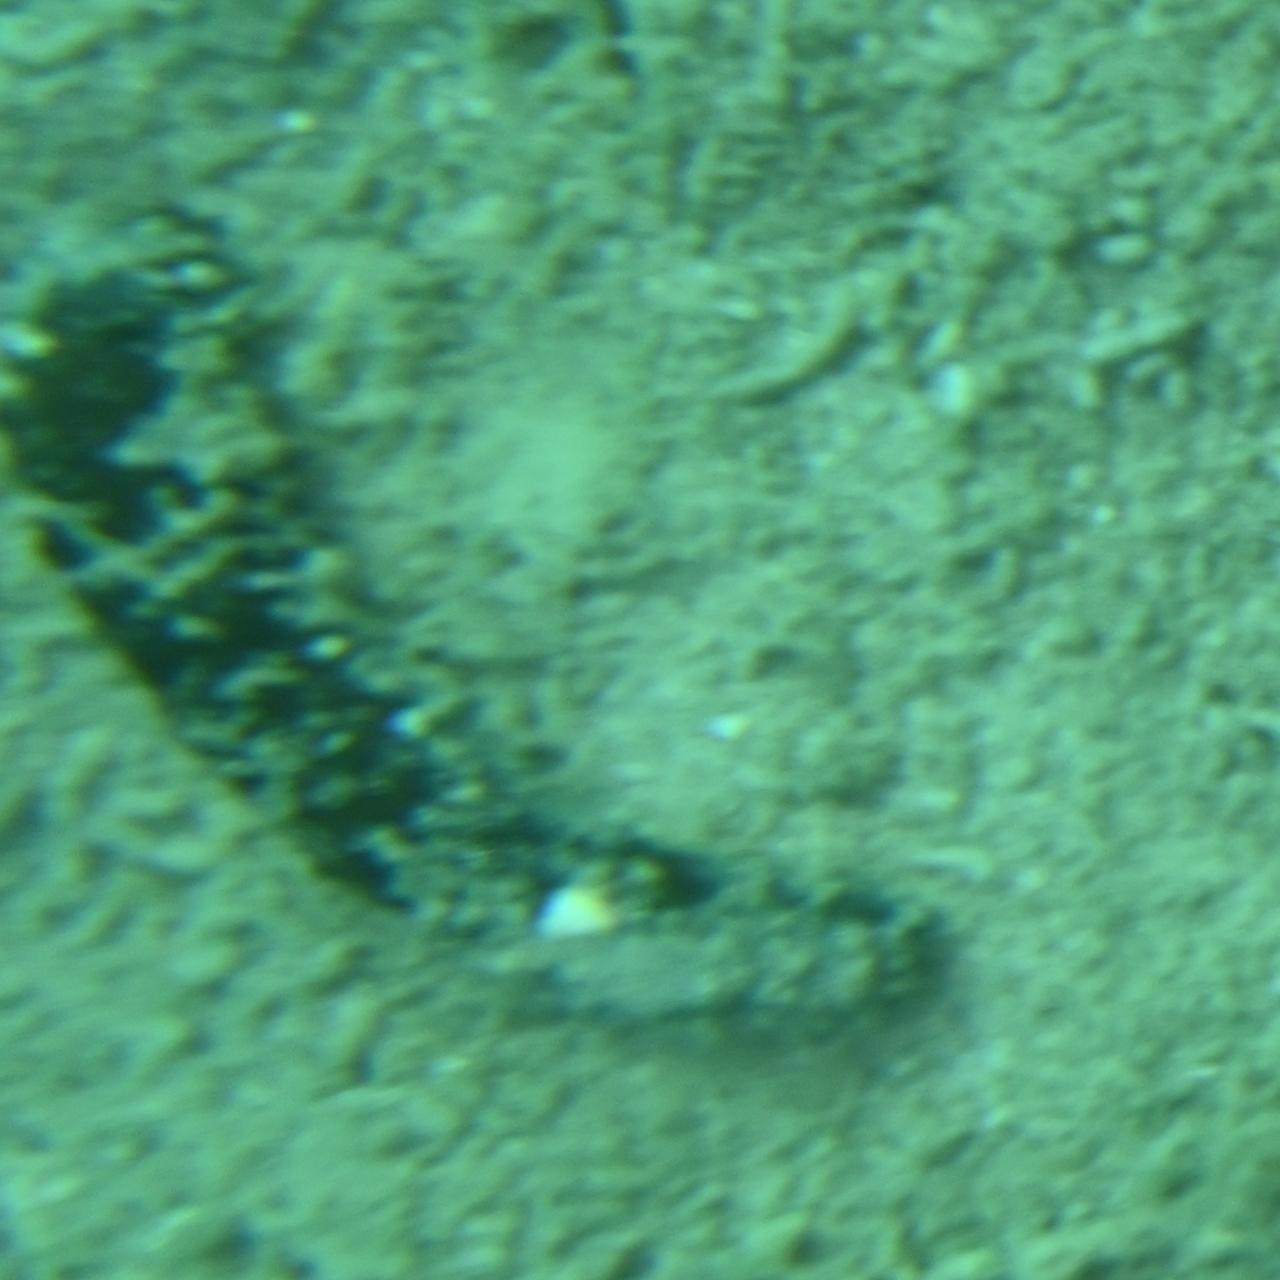Holothuria tubulosa: (0, 238, 934, 1042)
